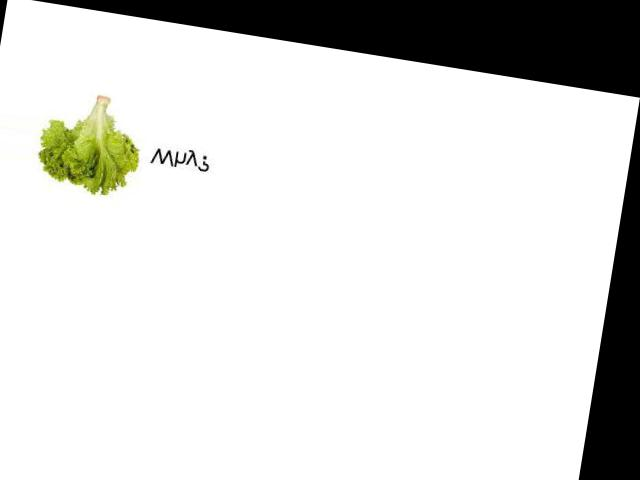lettuce: (27, 78, 205, 218)
